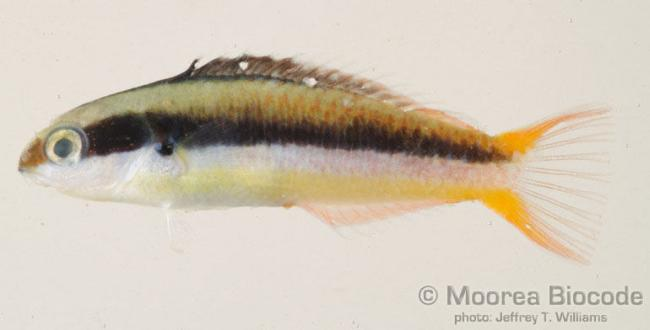fish: (19, 52, 614, 268)
